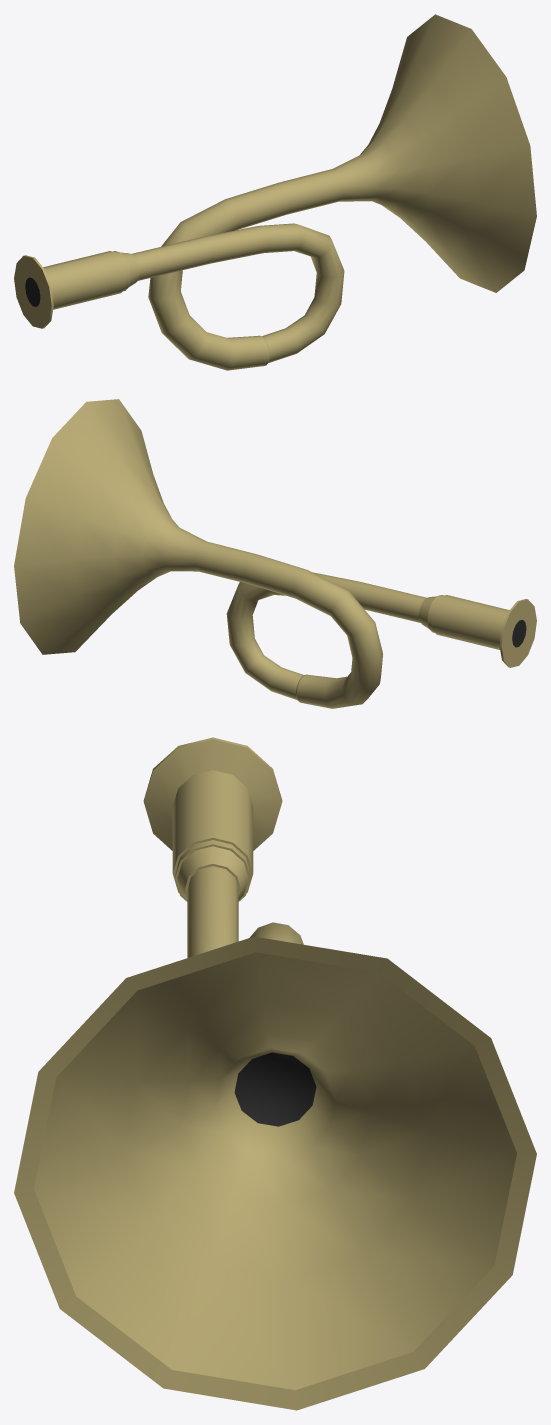
The model's file is Clarim.fbx.
3 renders of one model, top to bottom at view 1: azimuth 30°, elevation 25°; view 2: azimuth 150°, elevation 25°; view 3: azimuth 270°, elevation 25°, orthographic. The views are drawn at different scales.
Parts seen in each view (by area): view 1: Clarim; view 2: Clarim; view 3: Clarim.
Part boxes in pixels (x1=…): Clarim: x1=14, y1=14, x2=536, y2=370; Clarim: x1=14, y1=399, x2=536, y2=708; Clarim: x1=14, y1=737, x2=536, y2=1410.
Size of the model in its own units: 55.43 by 32.23 by 30.38.
